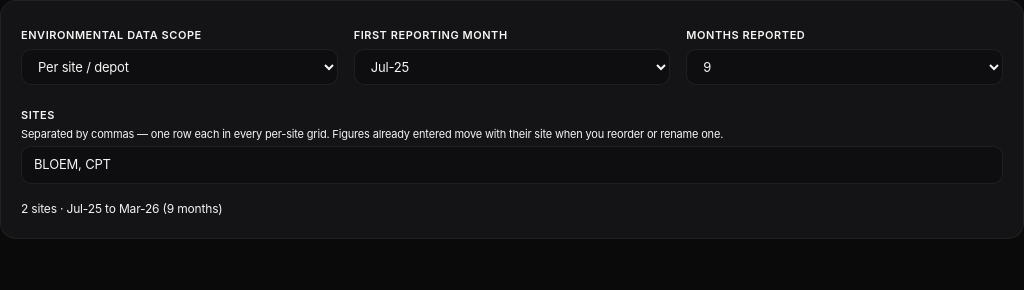
Test: EsgReportingAxesForm › refuses to drop a site that holds figures, and says why
Replace the text in the field with "BLOEM": (512, 165) [21,146,1003,184]
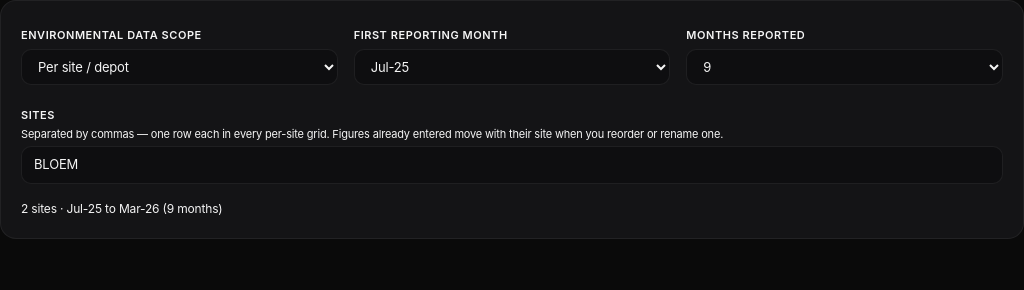
Leave the field, box [21,146,1003,184]
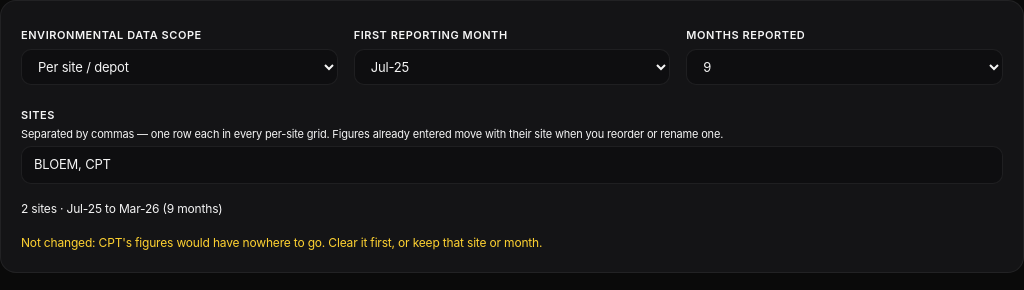
Expected: the message with test id "esg-axes-refusal" shows "CPT's figures", [21,235,542,250]
Expected: the field holds "BLOEM, CPT", [21,146,1003,184]
